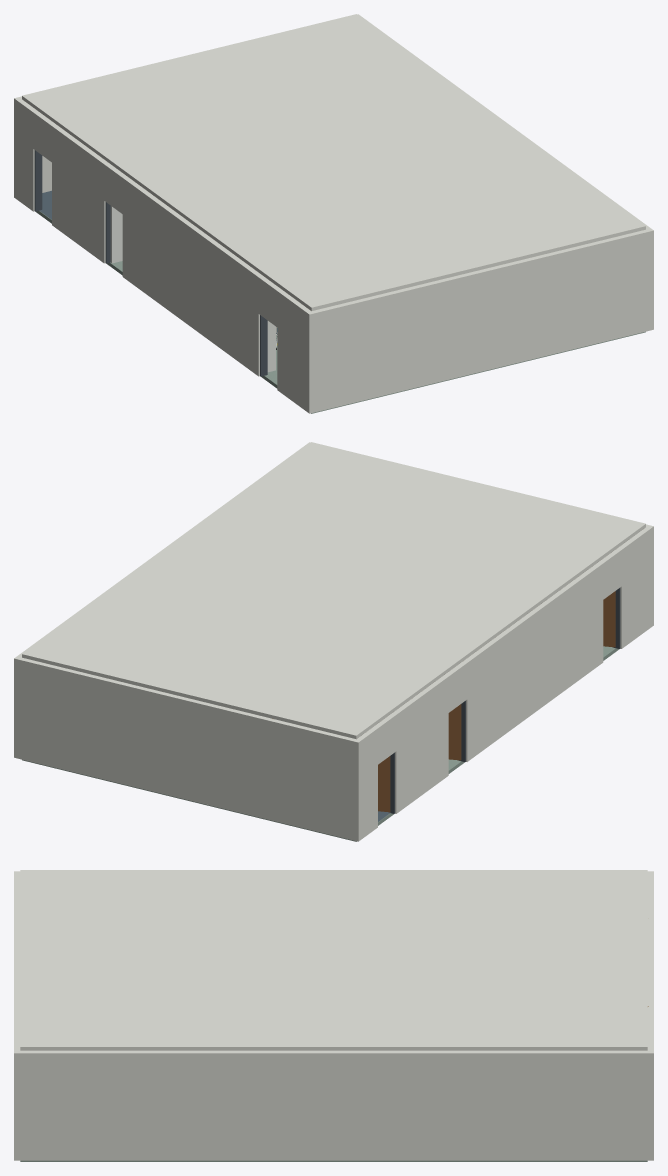
File: HumanityTrinityRebuildEnvironment_Runtime.glb
3 renders of one model, top to bottom at view 1: azimuth 30°, elevation 25°; view 2: azimuth 150°, elevation 25°; view 3: azimuth 270°, elevation 25°, orthographic. The views are drawn at different scales.
Visible parts, largest first — view 1: HumanityTrinityRebuildEnvironment_Runtime; view 2: HumanityTrinityRebuildEnvironment_Runtime; view 3: HumanityTrinityRebuildEnvironment_Runtime.
Part boxes in pixels (left/top/right/bottom): HumanityTrinityRebuildEnvironment_Runtime: left=14, top=14, right=653, bottom=413; HumanityTrinityRebuildEnvironment_Runtime: left=14, top=442, right=653, bottom=841; HumanityTrinityRebuildEnvironment_Runtime: left=14, top=870, right=653, bottom=1161.
Bounding box in the file's own units: 12.36 × 3.64 × 18.36.
Materials: 28 (2 with a texture image).
